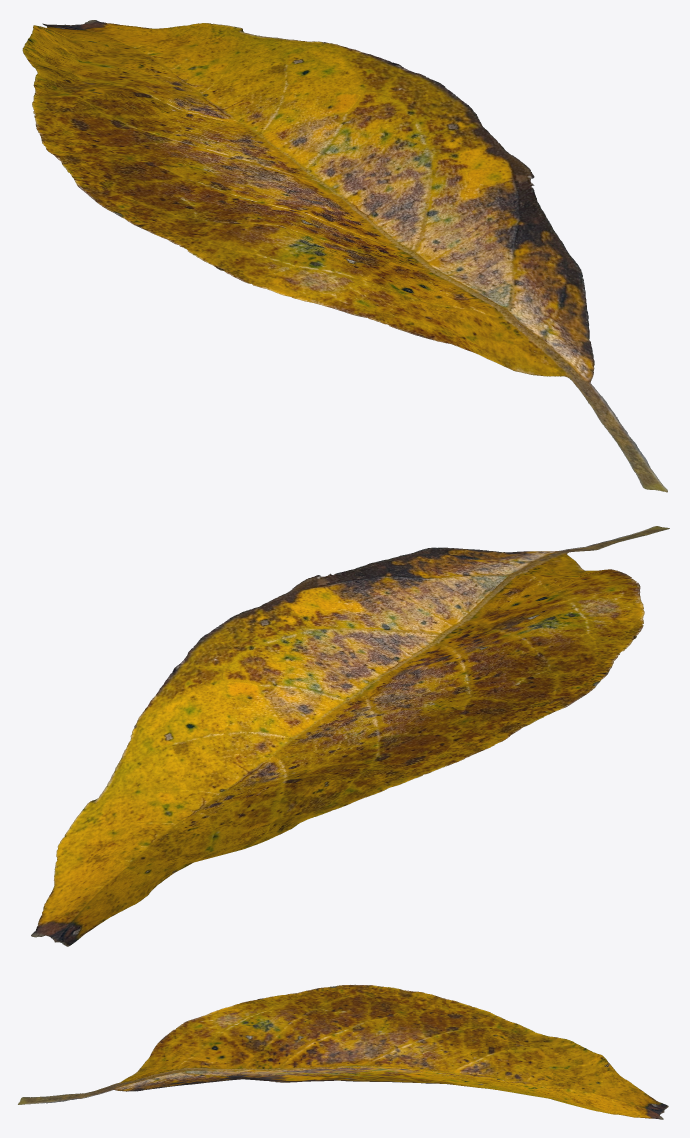
The model's file is 3D_Leaf_04.obj.
The picture shows the model from 3 angles, top to bottom: view 1: azimuth 30°, elevation 25°; view 2: azimuth 150°, elevation 25°; view 3: azimuth 270°, elevation 25°; orthographic projection. The views are drawn at different scales.
Parts seen in each view (by area): view 1: Leaves_04; view 2: Leaves_04; view 3: Leaves_04.
Boxes of the visible parts, x1,y1,x2,y2 form: Leaves_04: (22, 20, 667, 492); Leaves_04: (31, 526, 669, 946); Leaves_04: (18, 984, 668, 1119).
Bounding box in the file's own units: 0.042 × 0.0119 × 0.1174.
1 material, 1 textured.
